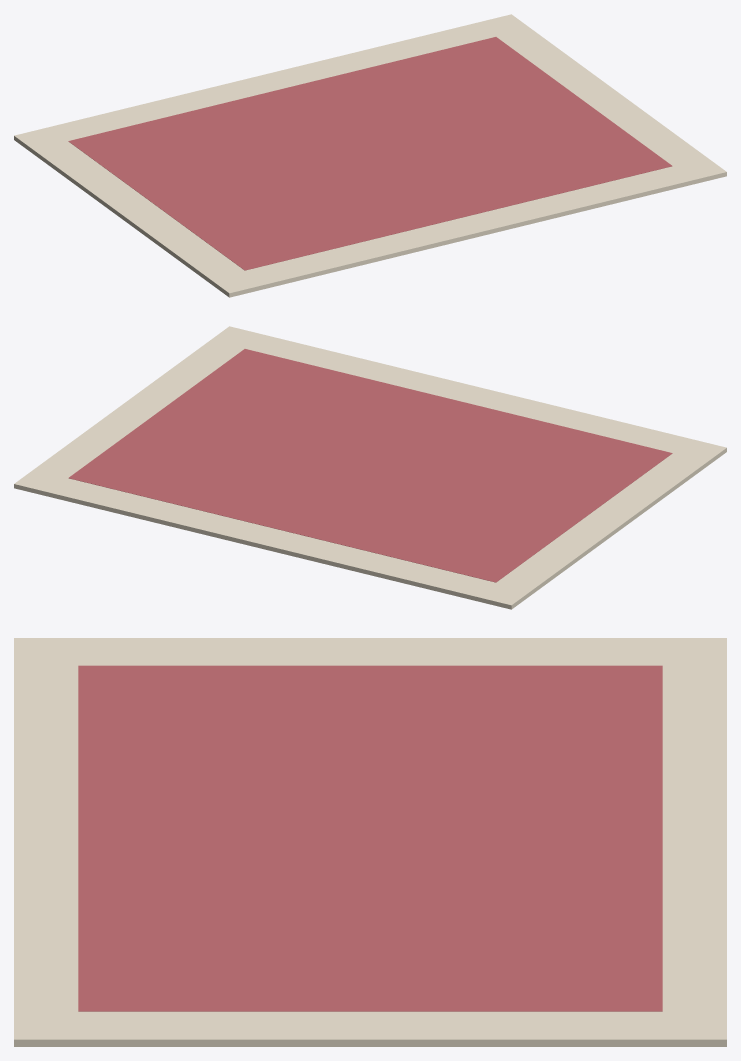
File: rug.glb
The picture shows the model from 3 angles, top to bottom: view 1: azimuth 30°, elevation 25°; view 2: azimuth 150°, elevation 25°; view 3: azimuth 270°, elevation 25°; orthographic projection. The views are drawn at different scales.
Parts seen in each view (by area): view 1: Rug; view 2: Rug; view 3: Rug.
Boxes of the visible parts, box(x1,y1,x2,y2) form: Rug: box(14, 14, 726, 297); Rug: box(14, 326, 726, 609); Rug: box(14, 638, 726, 1046).
Bounding box in the file's own units: 2.4 × 0.021 × 1.8.
